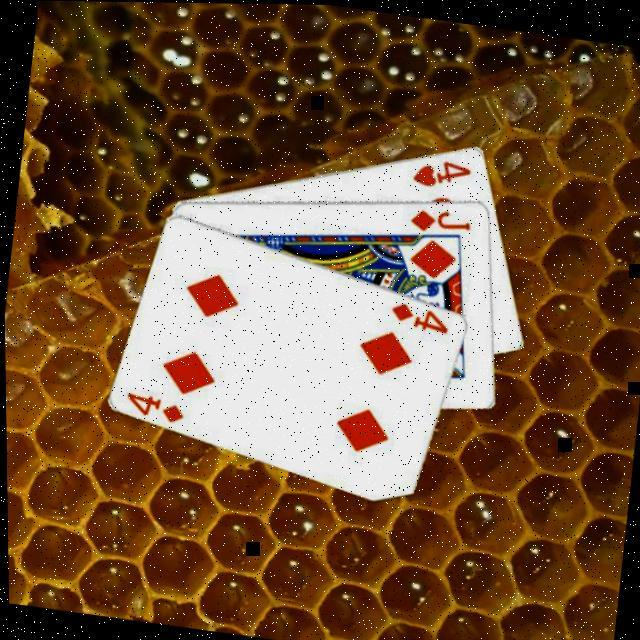4D: (383, 293, 450, 333), (118, 385, 185, 425)
4H: (406, 149, 473, 191)
JD: (403, 199, 472, 236)
